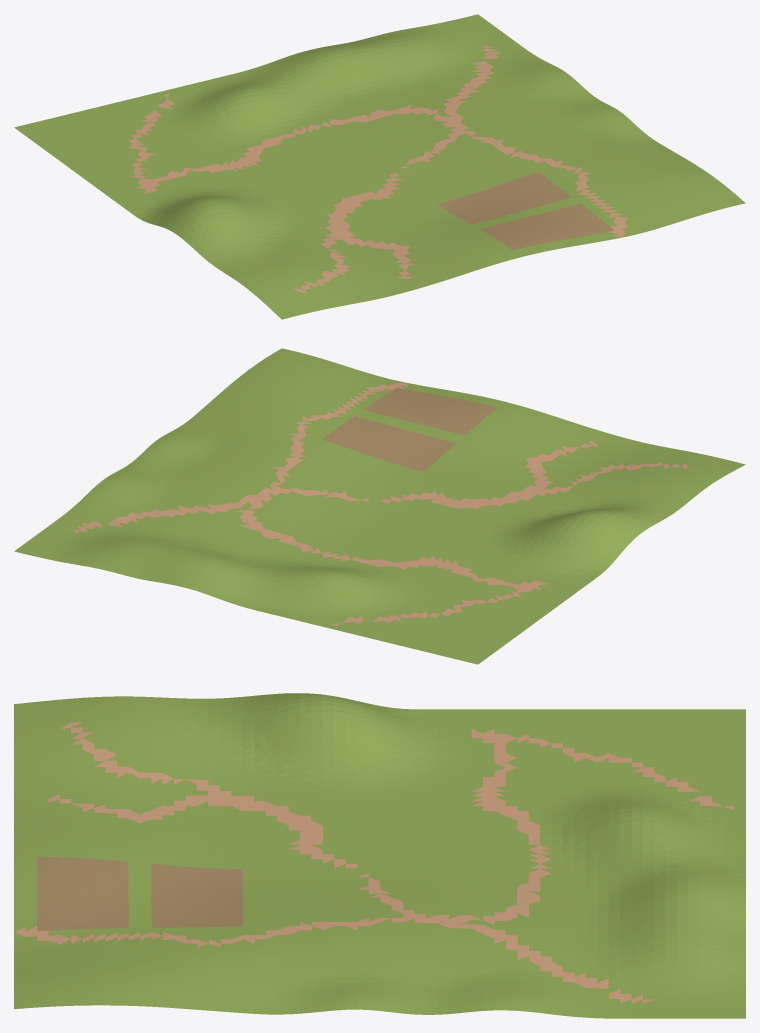
Rendered from chap2ter.fbx.
3 renders of one model, top to bottom at view 1: azimuth 30°, elevation 25°; view 2: azimuth 150°, elevation 25°; view 3: azimuth 270°, elevation 25°, orthographic. The views are drawn at different scales.
Parts seen in each view (by area): view 1: Plane.018; view 2: Plane.018; view 3: Plane.018.
Part boxes in pixels (box(x1,y1,x2,y2)): Plane.018: box(14, 14, 745, 319); Plane.018: box(14, 348, 745, 664); Plane.018: box(14, 693, 745, 1018).
Bounding box in the file's own units: 300 × 14.86 × 300.
